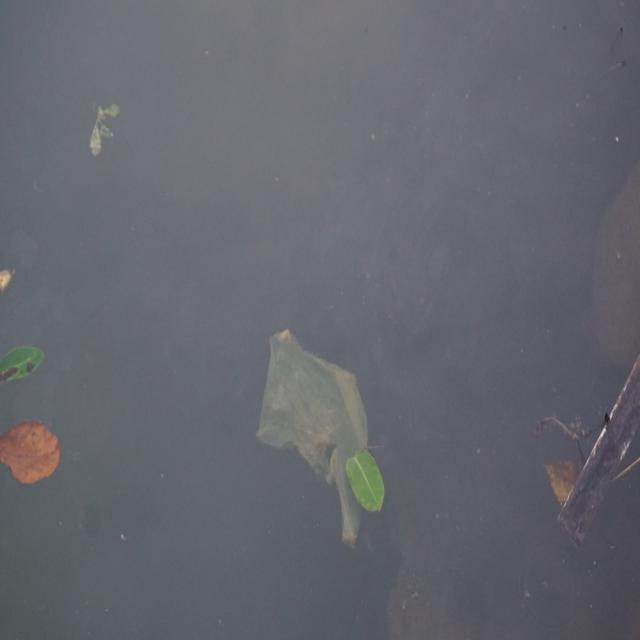Kantong Plastik: (256, 322, 384, 561)
